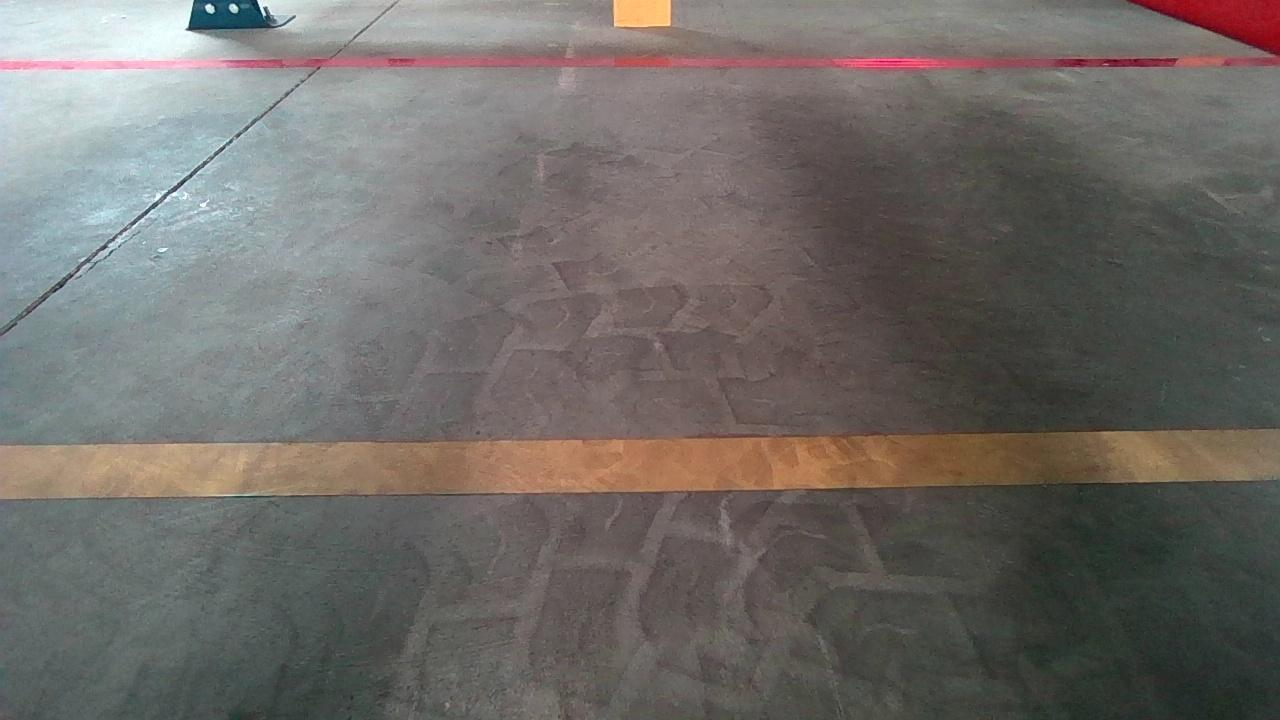red_line: (3, 54, 1278, 72)
yellow_line: (0, 426, 1274, 500)
